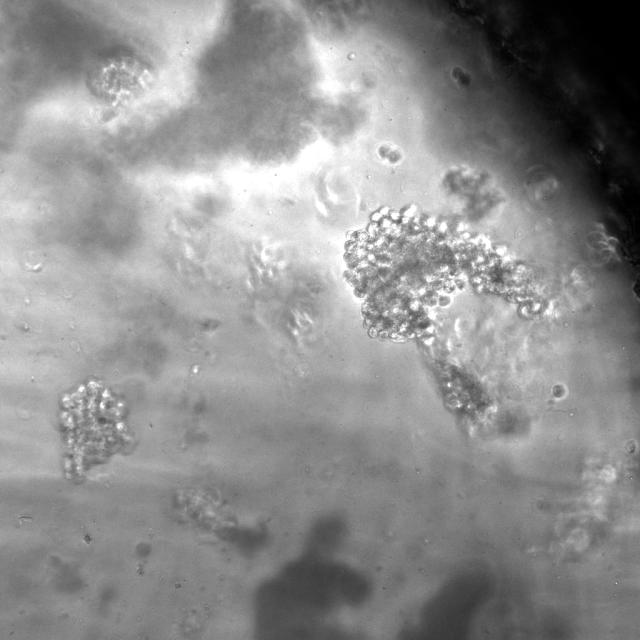organoid: (418, 224, 619, 438), (118, 0, 364, 166), (344, 205, 548, 341), (59, 380, 133, 482), (87, 49, 152, 121), (174, 486, 238, 537), (442, 165, 501, 219), (376, 142, 403, 165), (451, 66, 470, 86)
